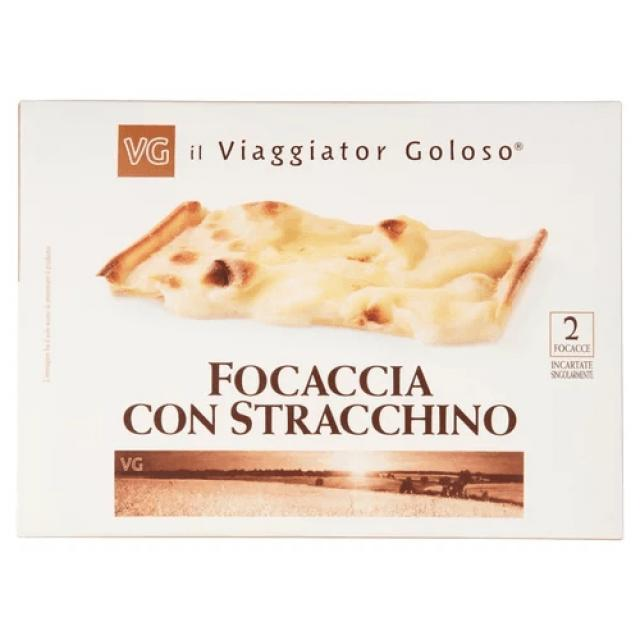bread: (15, 97, 623, 544)
